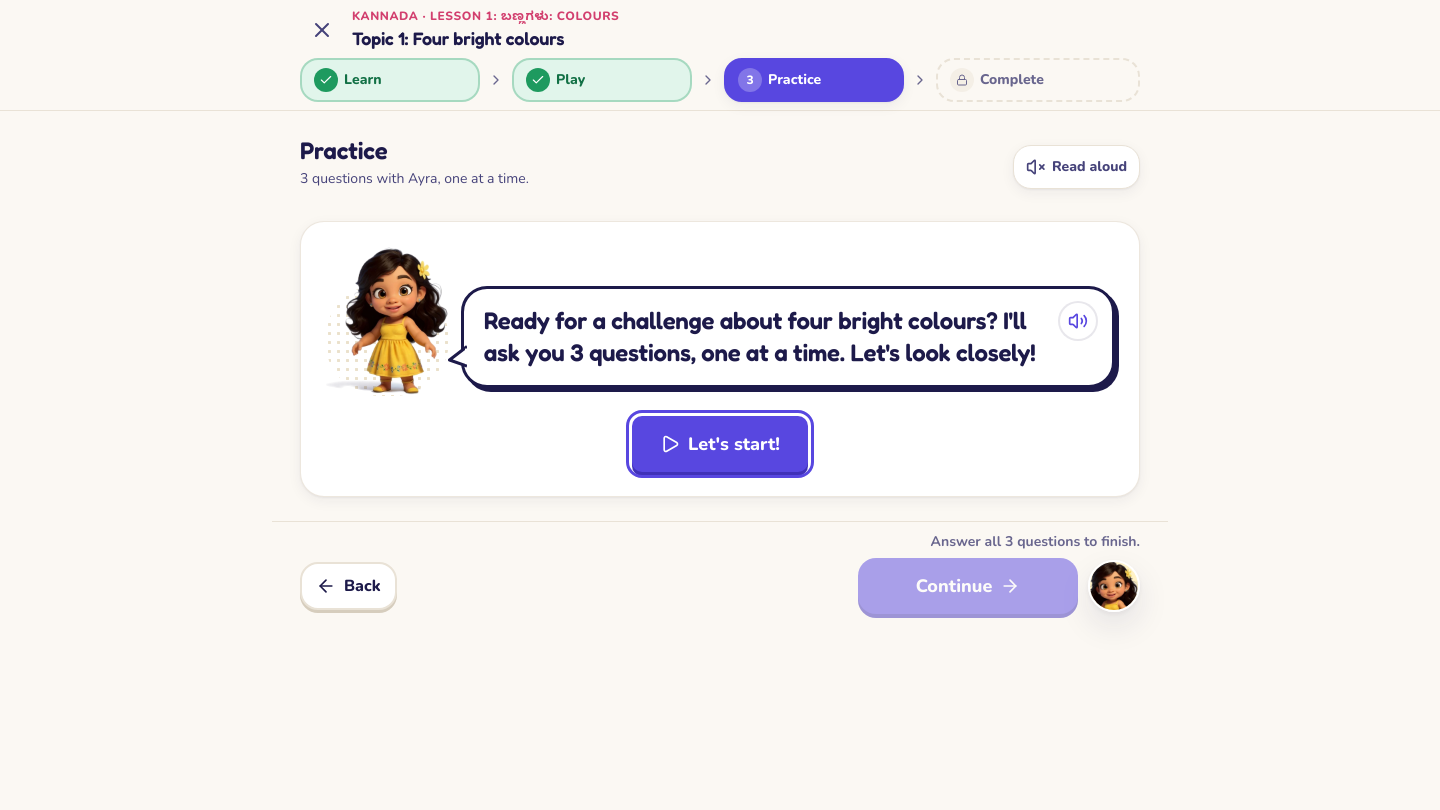
Test: read aloud › shows Kannada lines without reading them when the device has no Kannada voice
Click the button "Let's start!" at (720, 444), box [632,416,808,472]
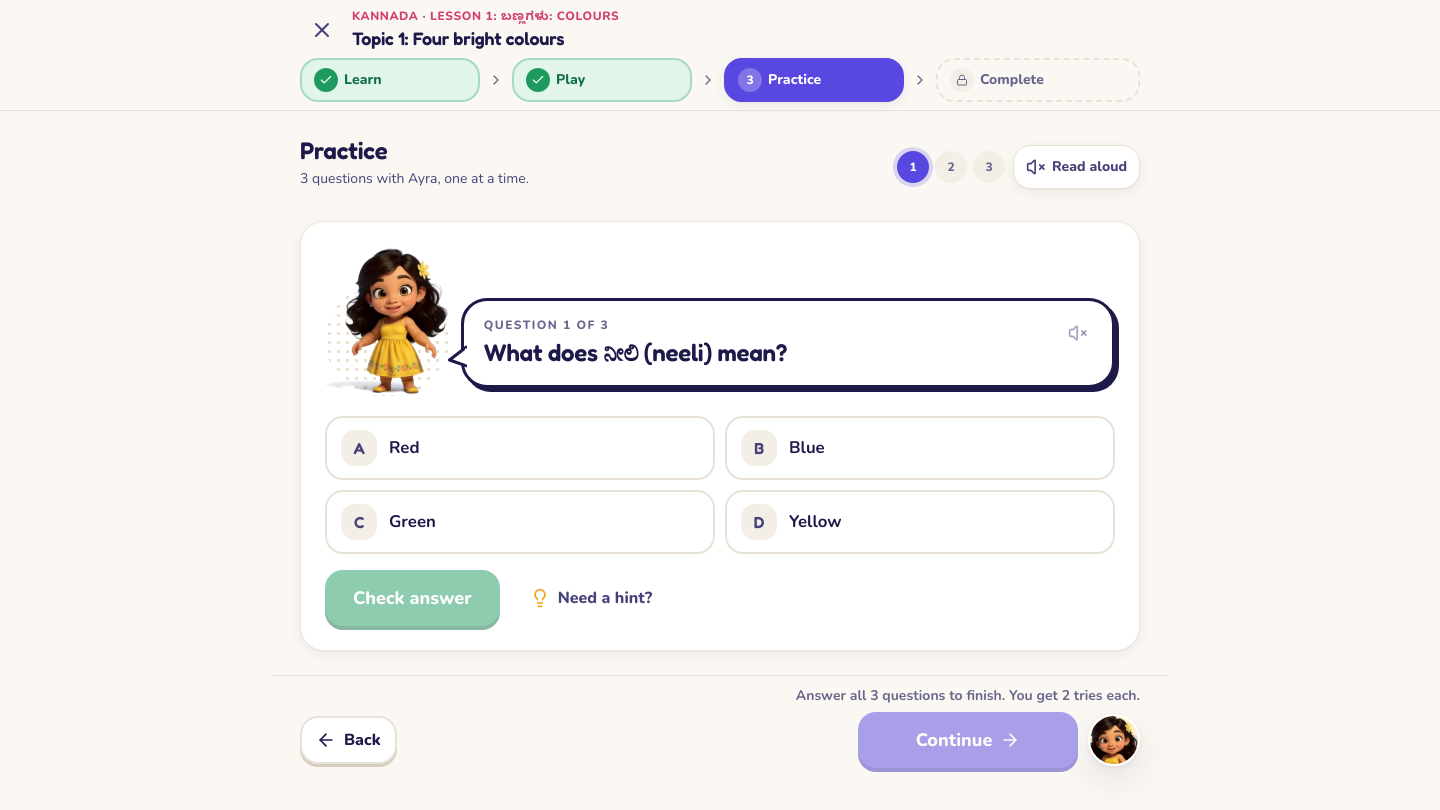
expect the picture named "No Kannada voice on this device, so read the words on screen" is shown: met, box [1068,323,1088,343]
